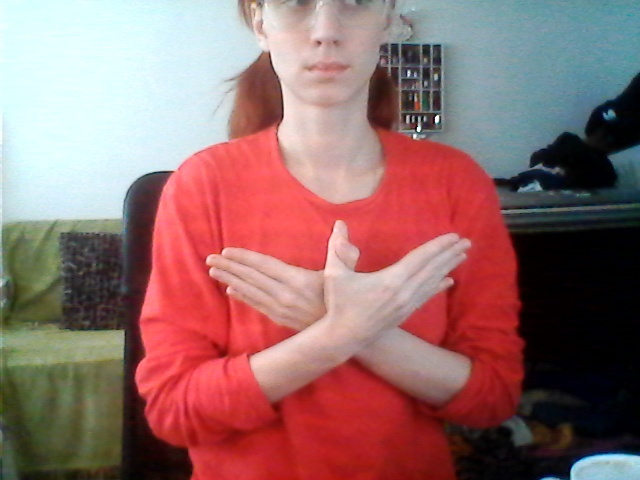lekar: (205, 210, 485, 392)
